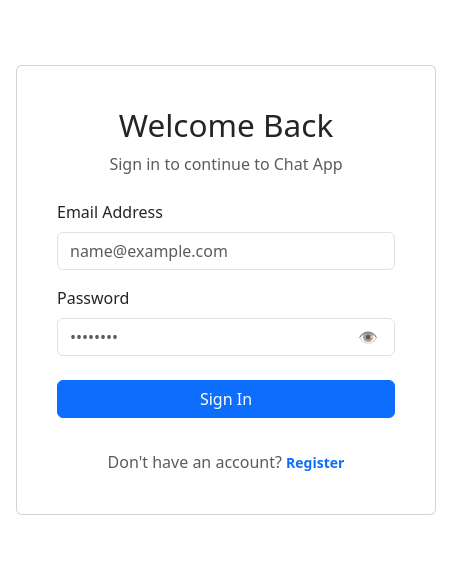
Test case: Login Component › displays fallback error message when server response is unavailable
In the field labelled "Email Address": (226, 251) [57,232,395,270], type "user@example.com"
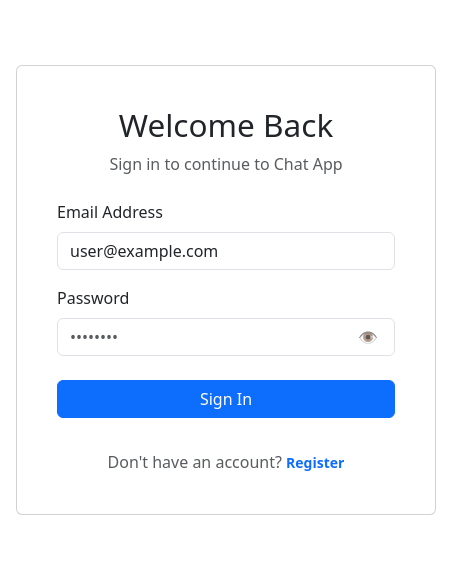
In the password field labelled "Password": (226, 337) [57,318,395,356], type "password123"
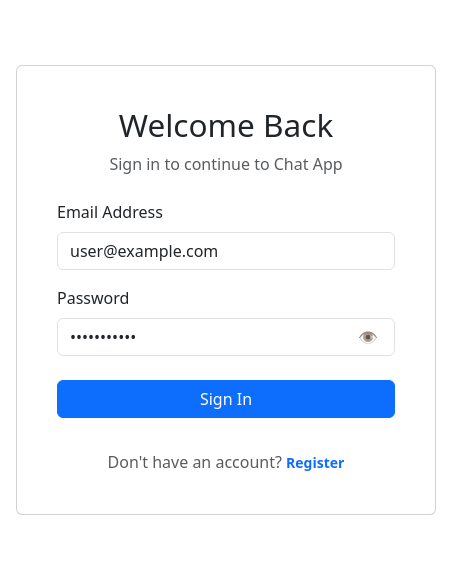
Click the button "Sign In": (226, 399) [57,380,395,418]
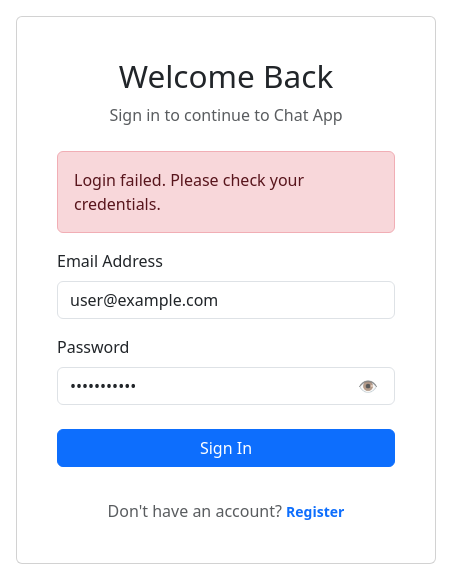
expect the text "Login failed. Please check your credentials." is shown: met, box [57,151,395,233]
